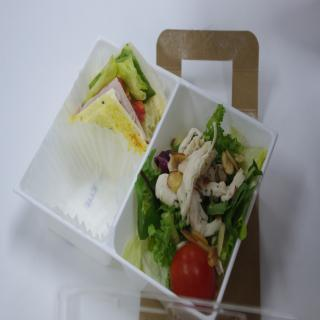tomato: (173, 240, 220, 300)
